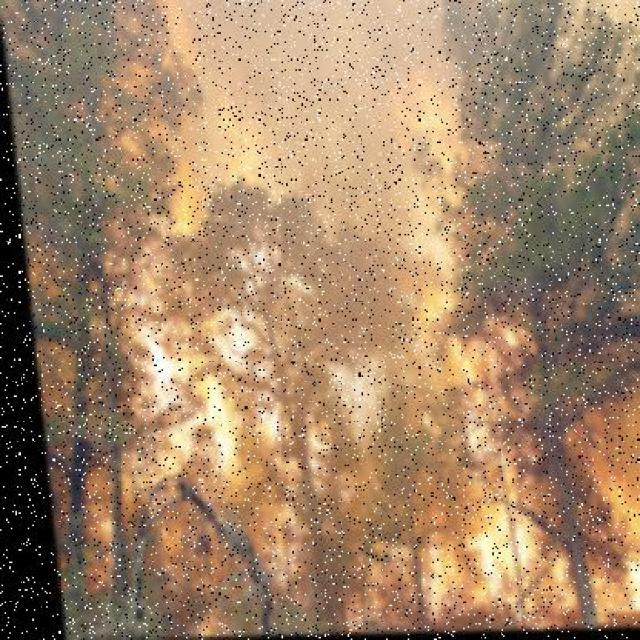fire: (127, 1, 640, 630)
